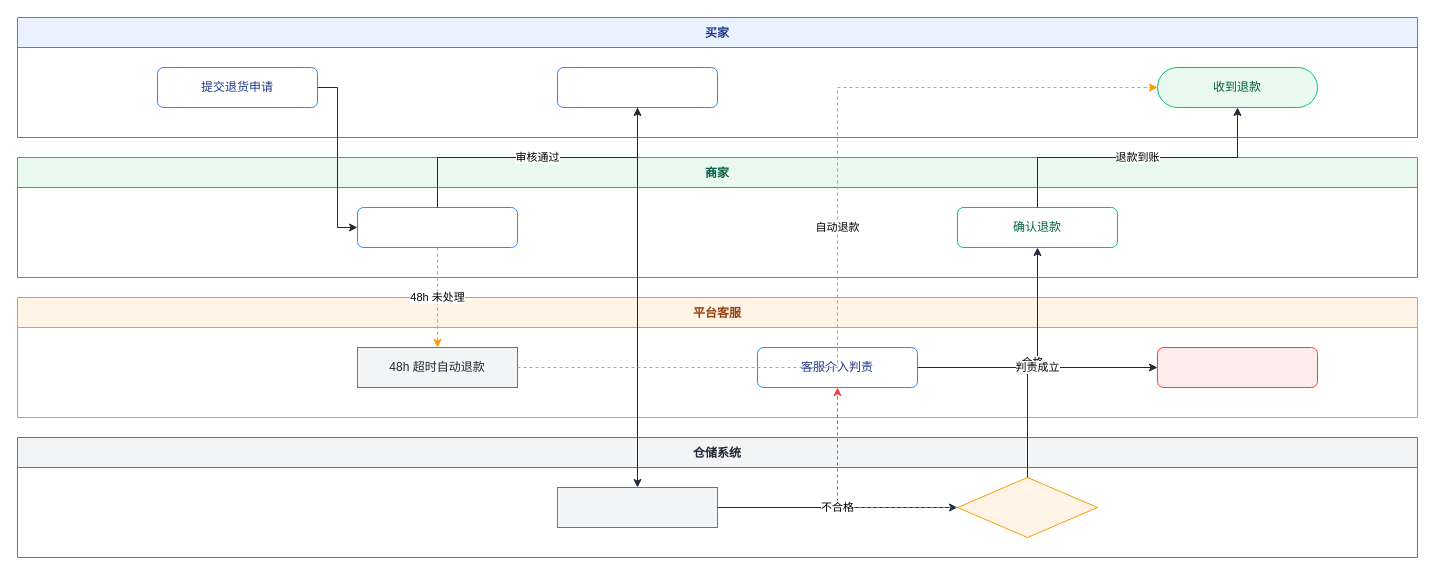
This 1435x575 diagram has some shape labels left out. Here are the shapes that lost their labels. From the top down, the centre of each, then its label:
At (x=637, y=87): "寄回商品".
At (x=437, y=227): "审核退货申请".
At (x=1237, y=367): "裁定拒绝退货".
At (x=637, y=507): "入库验收".
At (x=1027, y=507): "验收合格?".
